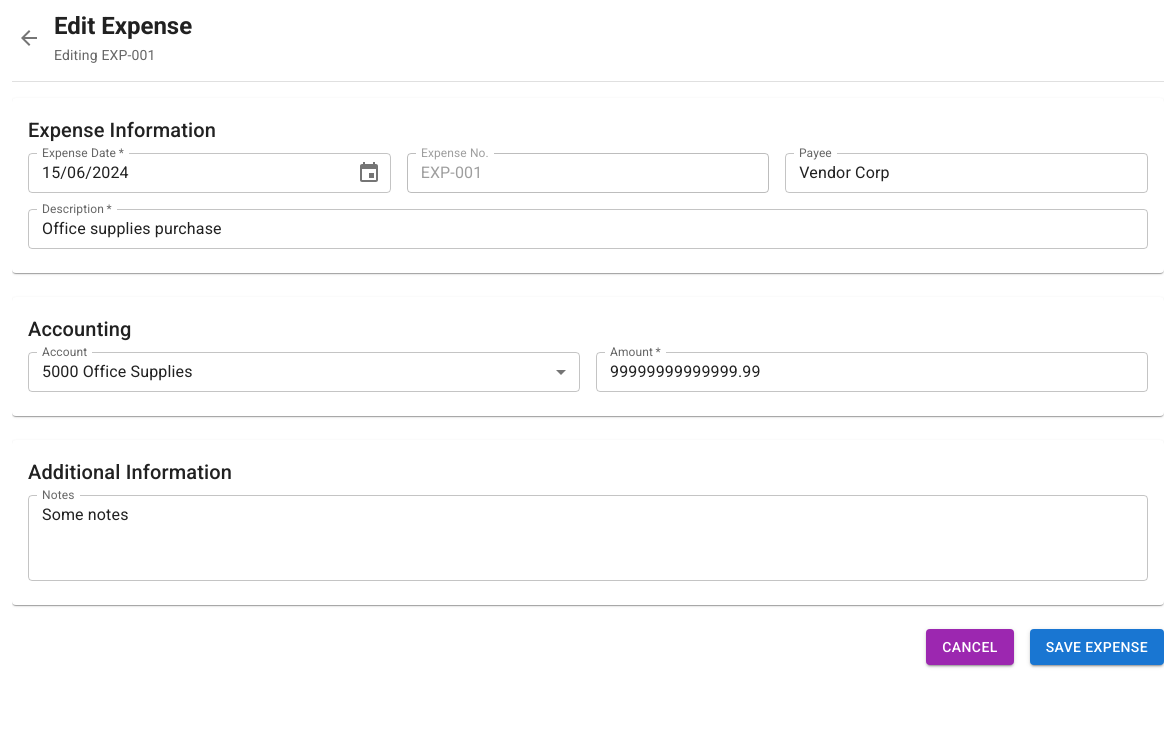
Test: ExpenseFormPage - Edit mode › rejects an amount below a large paid amount that parseFloat cannot distinguish
Replace the text in the field labelled "Amount *" with "99999999999999.9899": [872, 372] box [596,352,1148,392]
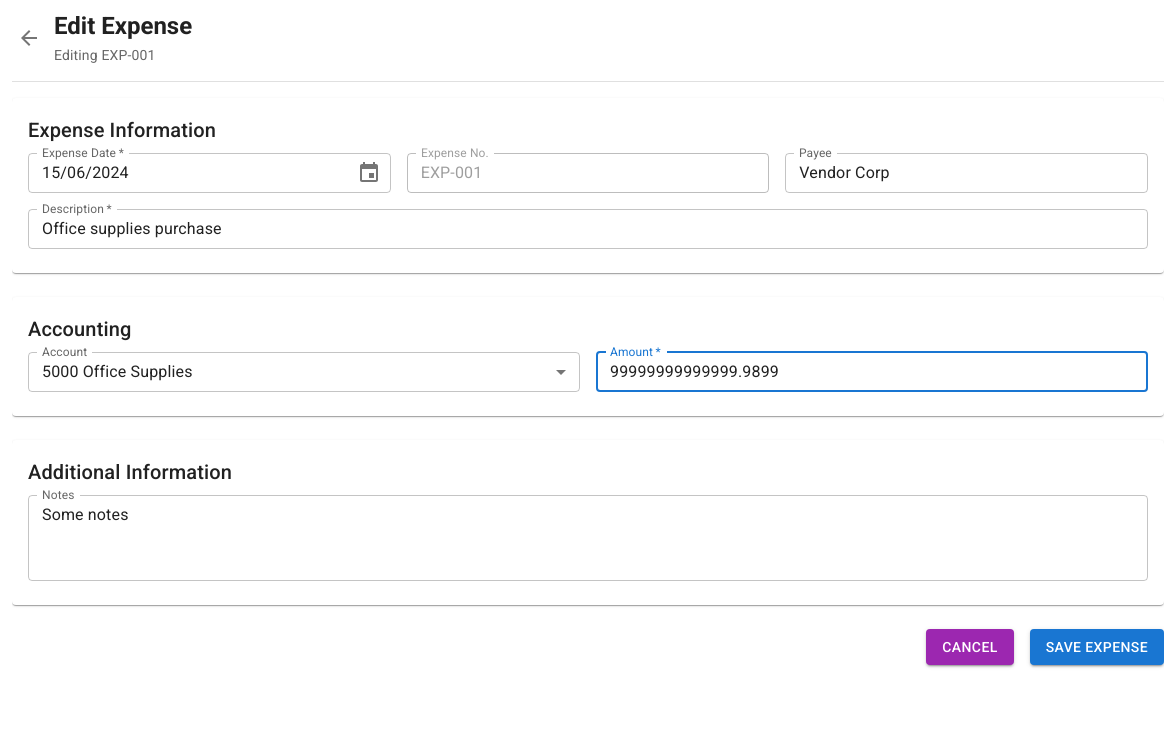
Click the button "Save Expense": [1097, 647] box [1030,629,1164,665]
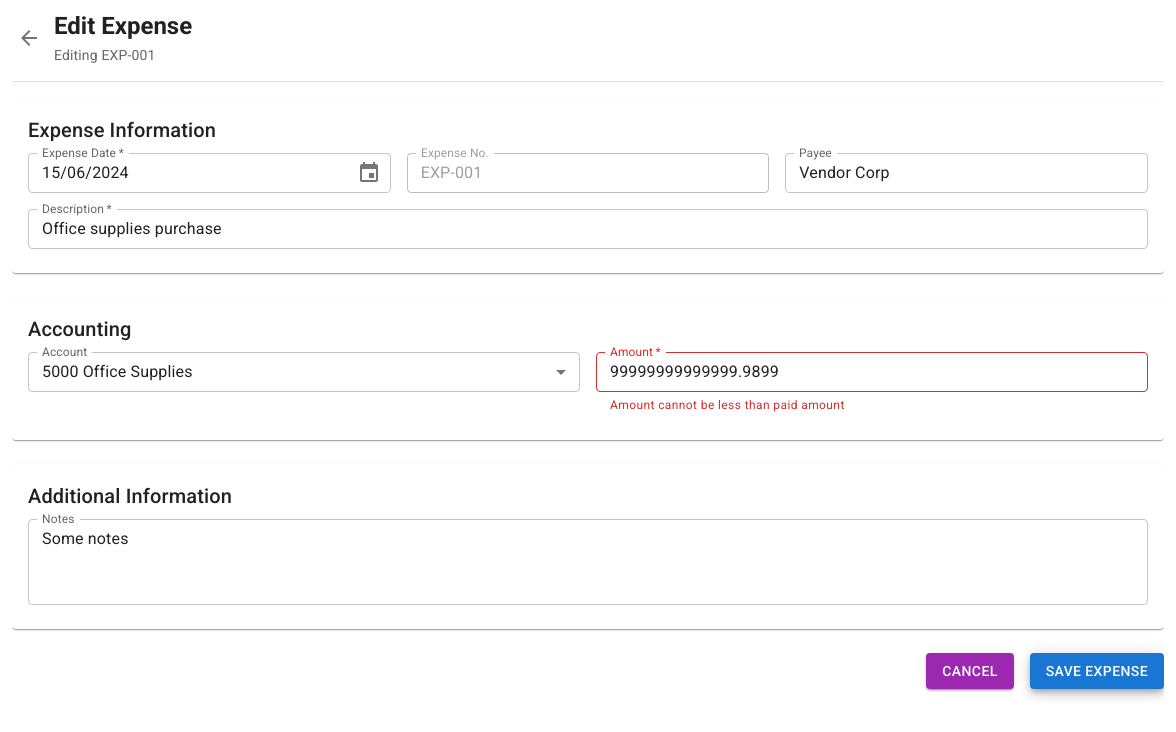
Check: the text "Amount cannot be less than paid amount" is shown, box [610,398,845,412]
